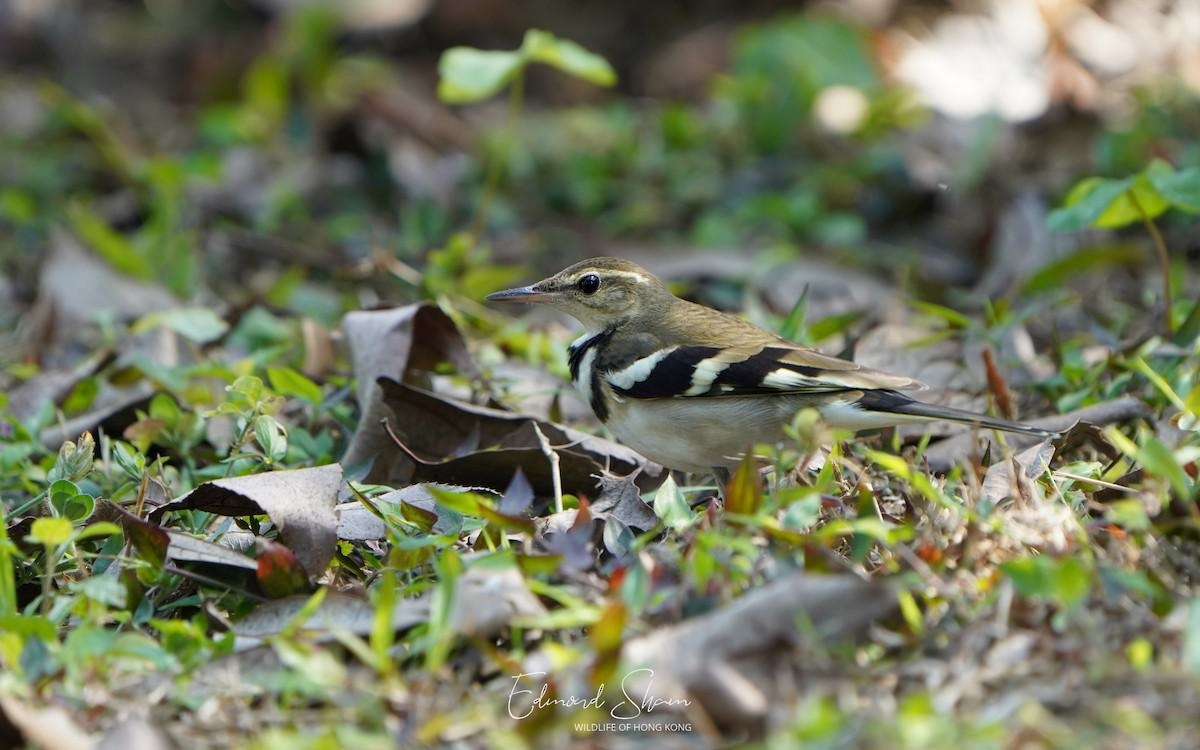wagtail: (507, 239, 997, 465)
